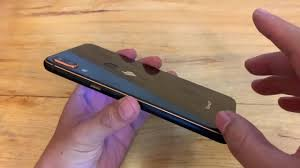vsmart: (37, 40, 245, 146)
